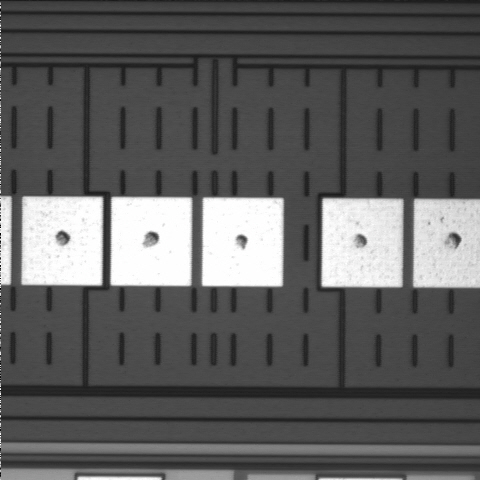pad: (111, 197, 192, 286), (202, 198, 283, 287), (22, 197, 103, 285), (322, 199, 403, 287)
